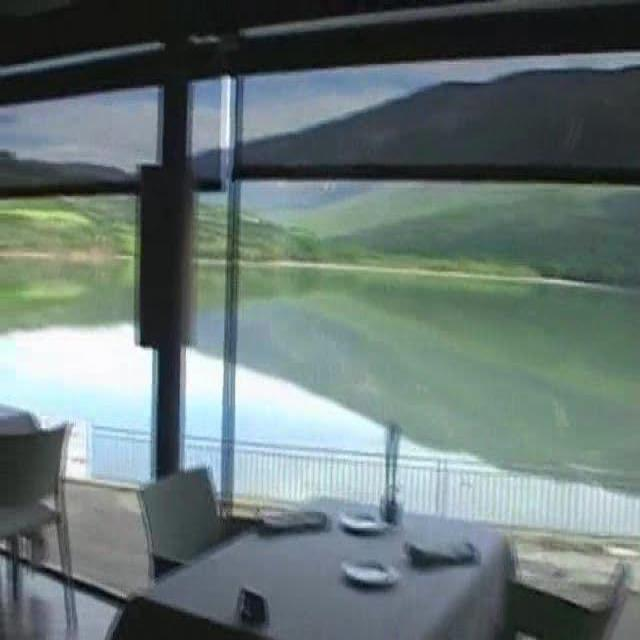other: (36, 321, 197, 395)
